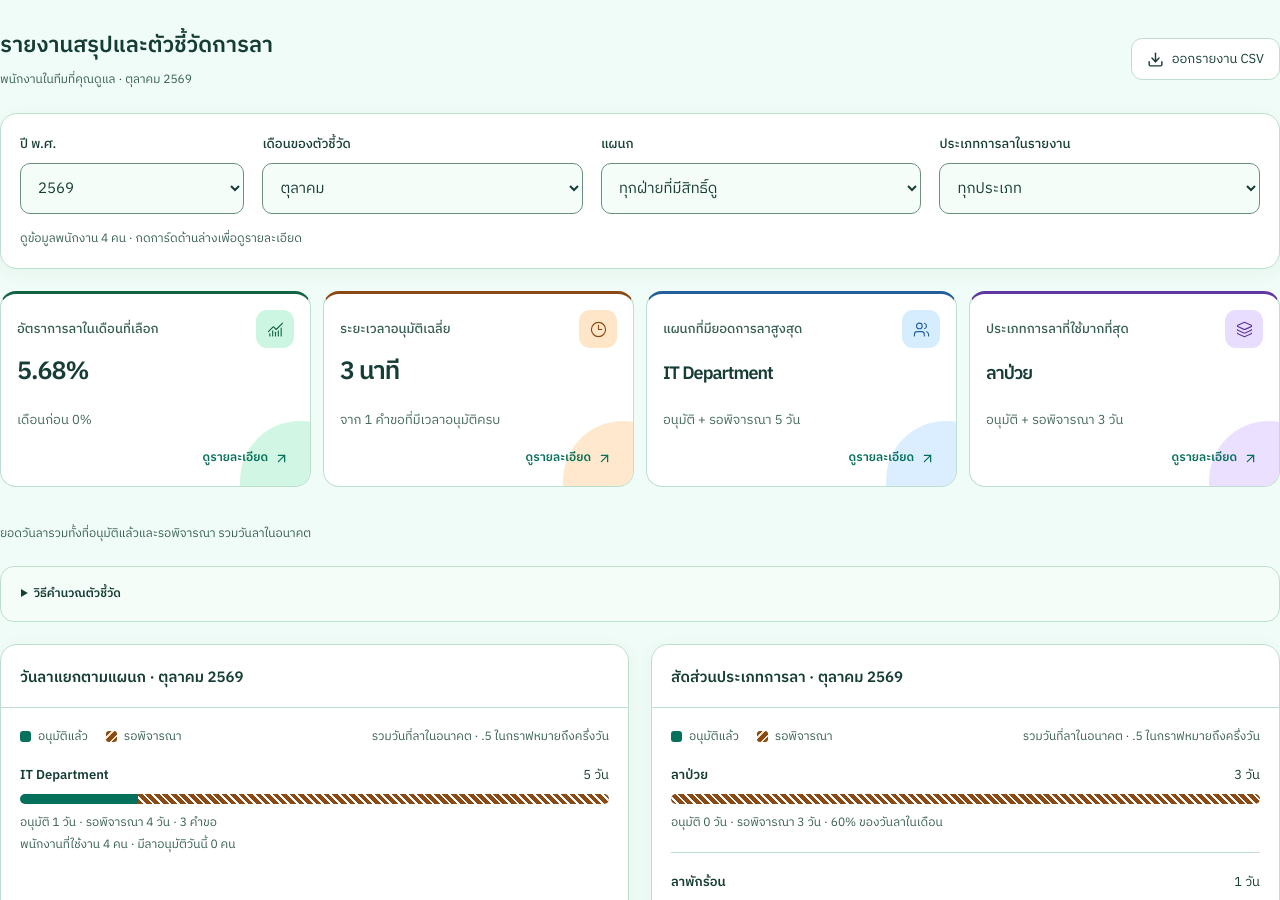
rate dialog can compare the previous month and manager dialogs never contain another team or HR
What coordinates should you click on to do the following:
click the button with aria-label "ดูรายละเอียดอัตราการลาในเดือนที่เลือก"
I would click on:
 (156, 389)
Its box is [0,292,311,487].
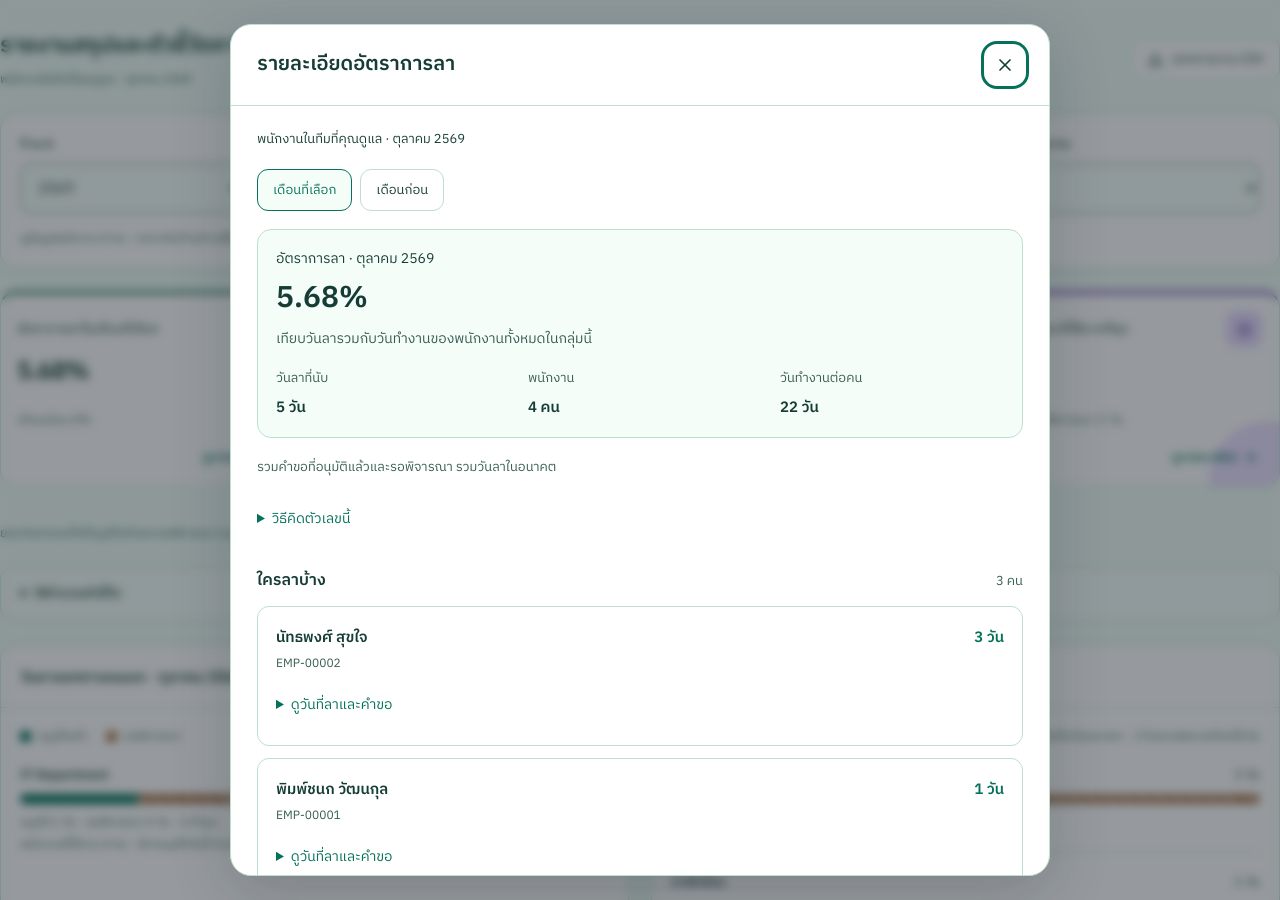
What coordinates should you click on to do the following:
click the button "เดือนก่อน"
I would click on:
 (402, 190)
Its box is [360,169,444,211].
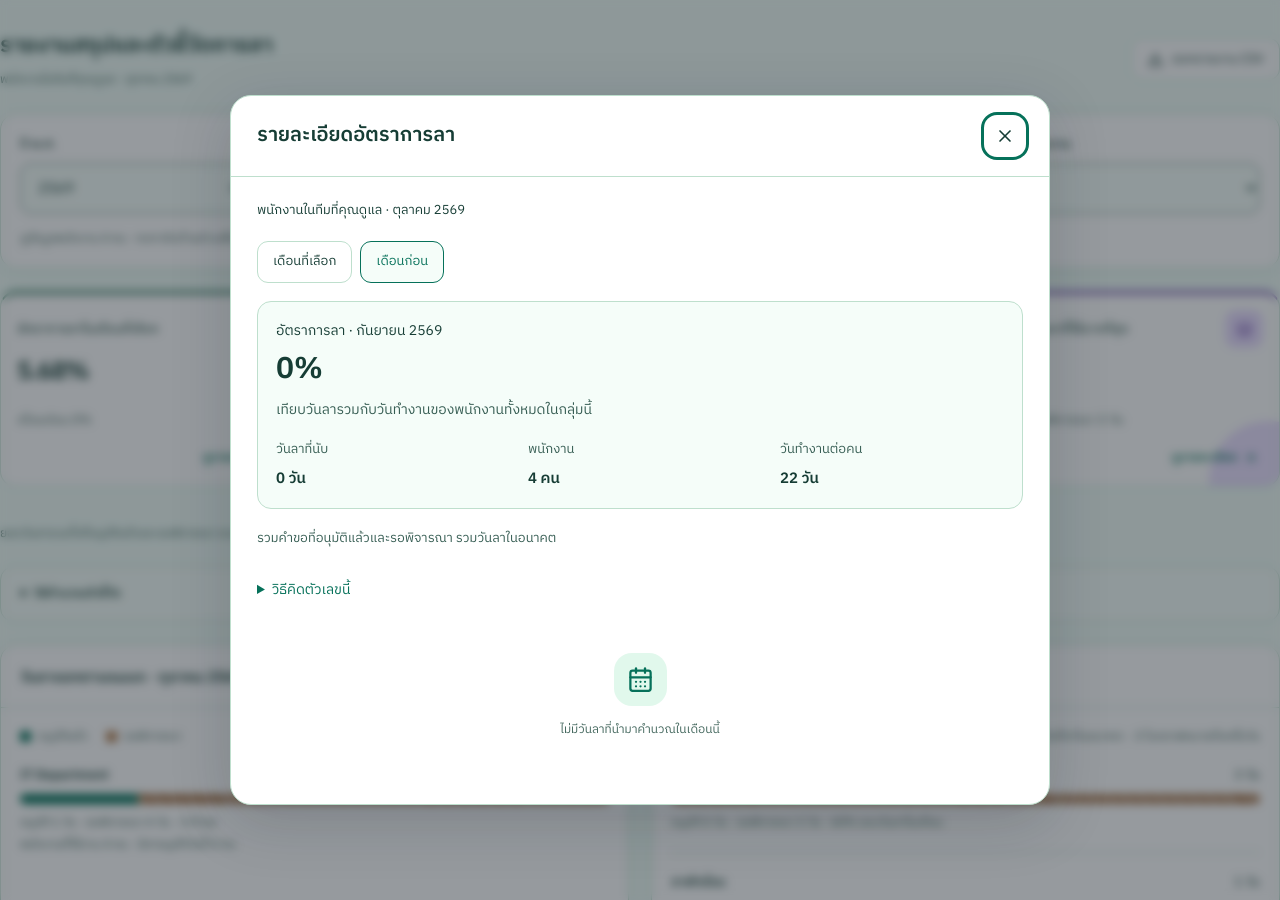
Result: the text "ไม่มีวันลาที่นำมาคำนวณในเดือนนี้" is shown at [560,720,720,741]
What coordinates should you click on to do the following:
click the button "เดือนที่เลือก"
I would click on:
 (305, 262)
Its box is [257,240,352,282].
(page scrolled)
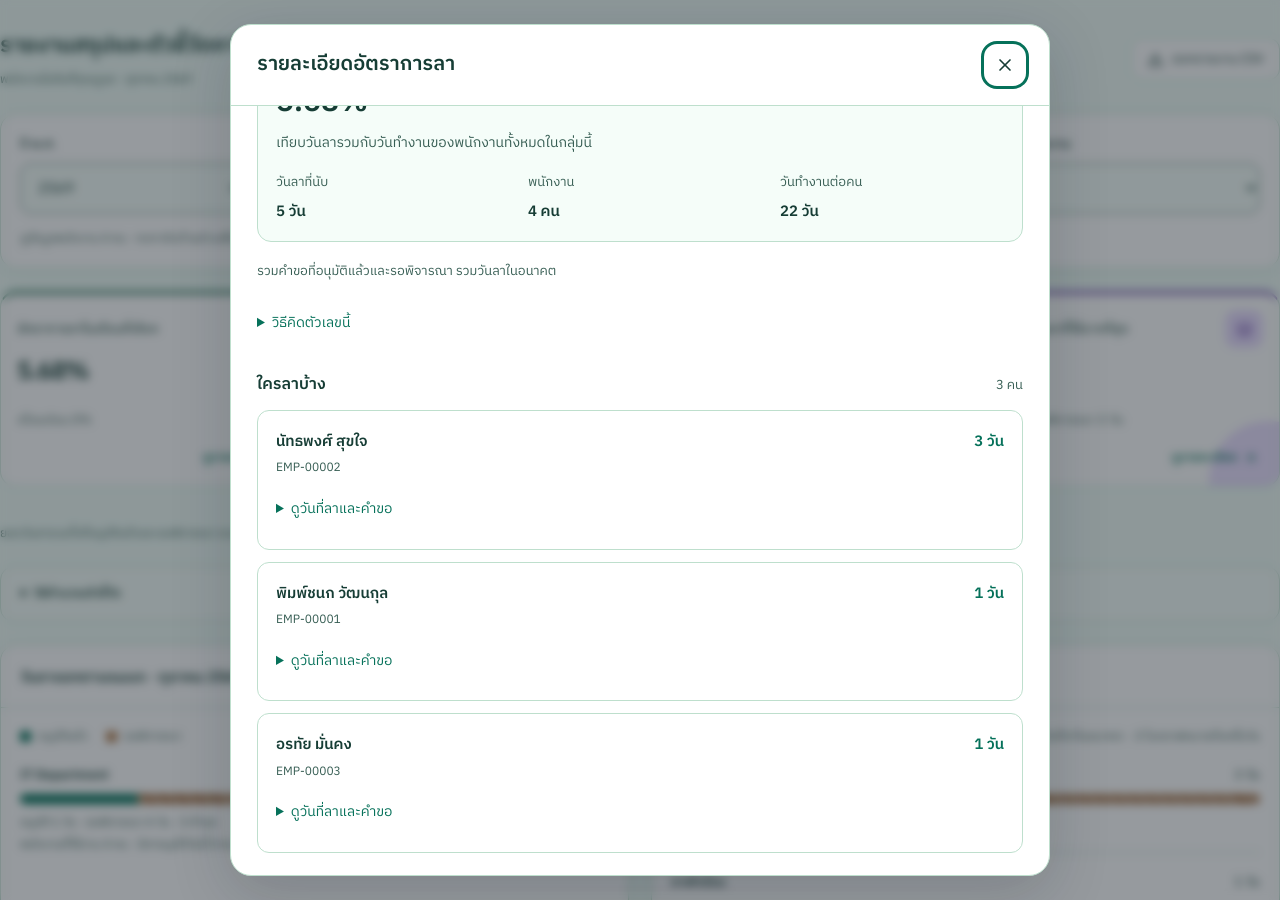
Result: the element named "รายการวันลาที่นำมาคำนวณอัตรา" is shown at [257,371,1023,853]
